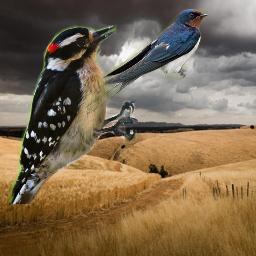Swallow: (85, 9, 209, 113)
Woodpecker: (10, 25, 138, 204)
